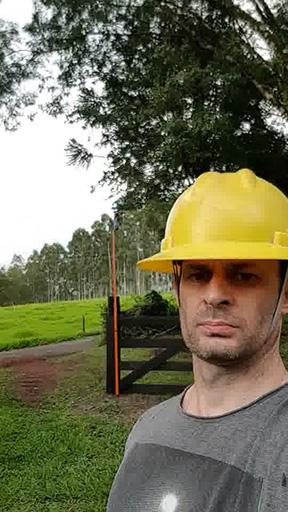Vara_Manobra: (109, 231, 121, 397)
